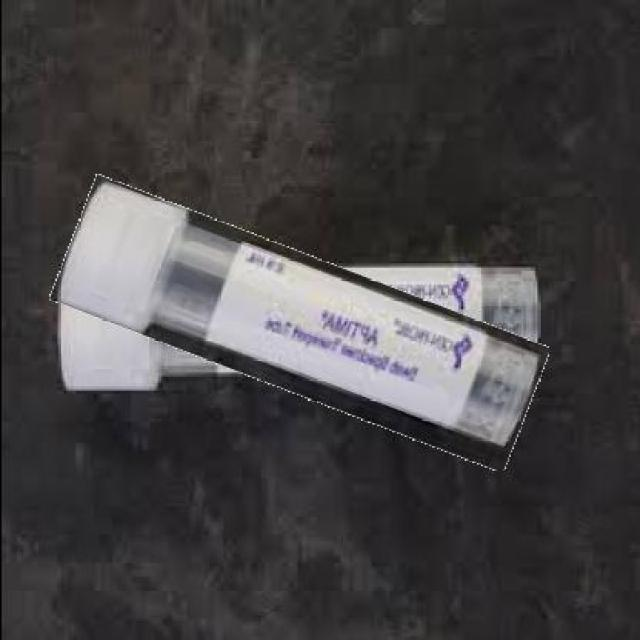Experimental-tube: (52, 215, 546, 432)
